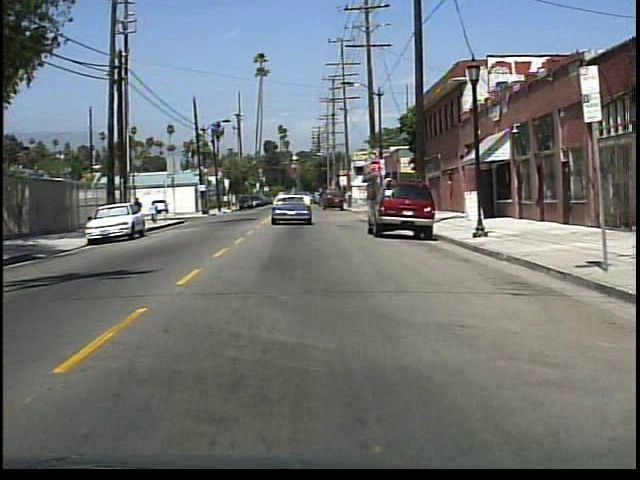person: (131, 195, 147, 228), (148, 199, 161, 226)
